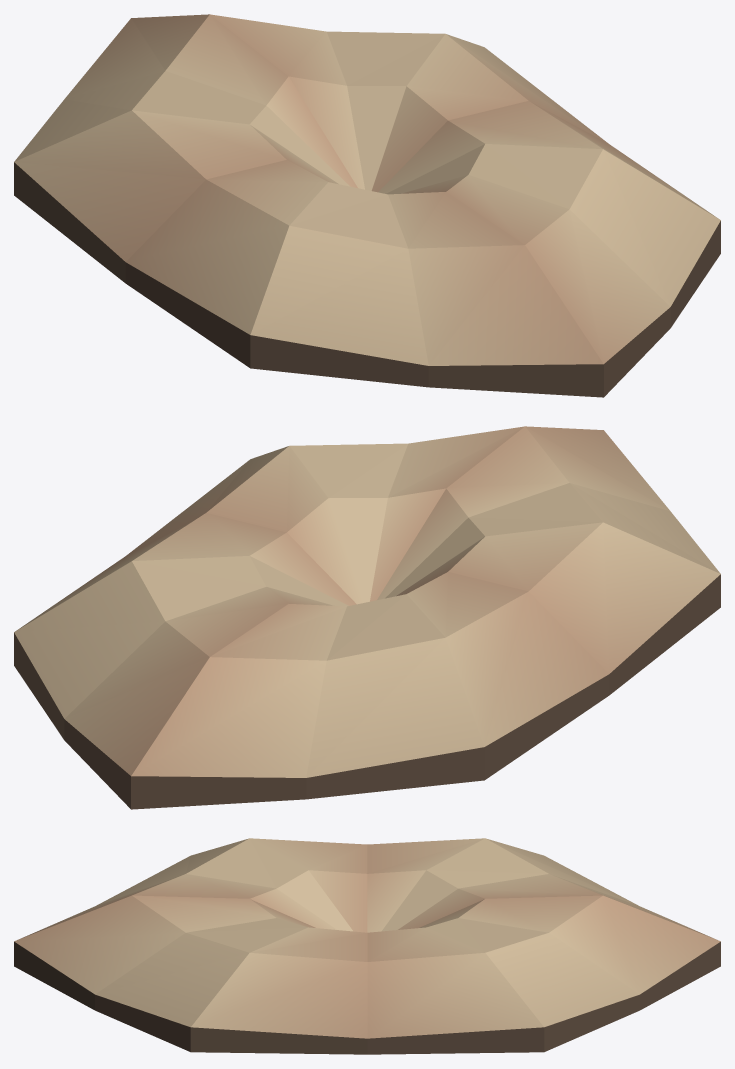
Rendered from beach-shell-oval-v1.glb.
3 views of the same model, one above another, from view 1: azimuth 30°, elevation 25°; view 2: azimuth 150°, elevation 25°; view 3: azimuth 270°, elevation 25° (orthographic). The views are drawn at different scales.
Parts seen in each view (by area): view 1: beach-shell-oval-v1; view 2: beach-shell-oval-v1; view 3: beach-shell-oval-v1.
Boxes of the visible parts, x1=… form: beach-shell-oval-v1: x1=14, y1=14, x2=720, y2=397; beach-shell-oval-v1: x1=14, y1=426, x2=720, y2=809; beach-shell-oval-v1: x1=14, y1=838, x2=720, y2=1054.
Bounding box in the file's own units: 0.5913 × 0.1107 × 1.
